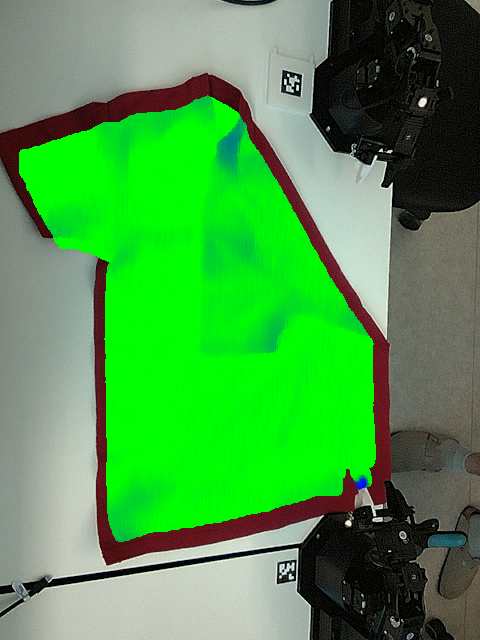V: (191, 323, 232, 362), (245, 323, 285, 360)
